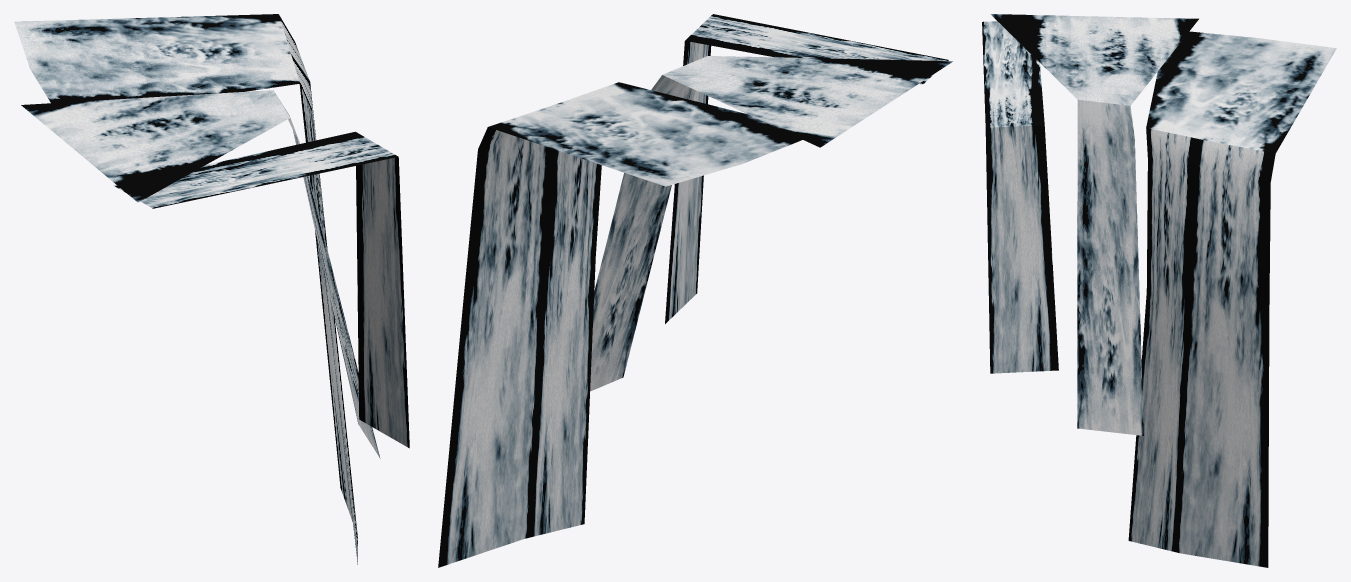
File: jd_shui_1.FBX
3 views of the same model, side by side, from view 1: azimuth 30°, elevation 25°; view 2: azimuth 150°, elevation 25°; view 3: azimuth 270°, elevation 25° (orthographic). The views are drawn at different scales.
Visible parts, largest first — view 1: jd_shui_1; view 2: jd_shui_1; view 3: jd_shui_1.
Boxes of the visible parts, x1=… form: jd_shui_1: x1=14, y1=14, x2=409, y2=564; jd_shui_1: x1=438, y1=14, x2=952, y2=567; jd_shui_1: x1=982, y1=14, x2=1336, y2=567.
Bounding box in the file's own units: 6155 × 7922 × 6249.
